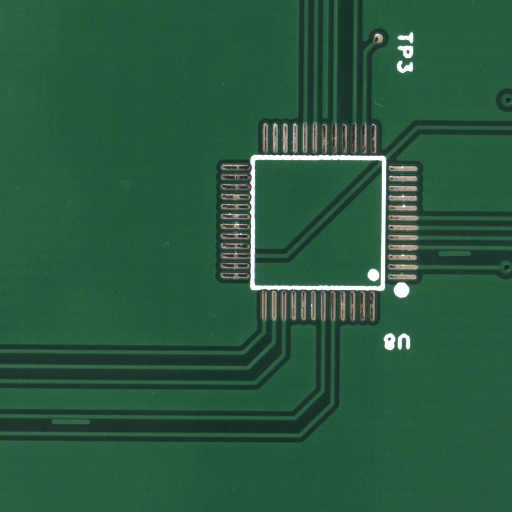Spurious_copper: (455, 253, 494, 264), (70, 421, 115, 428)
